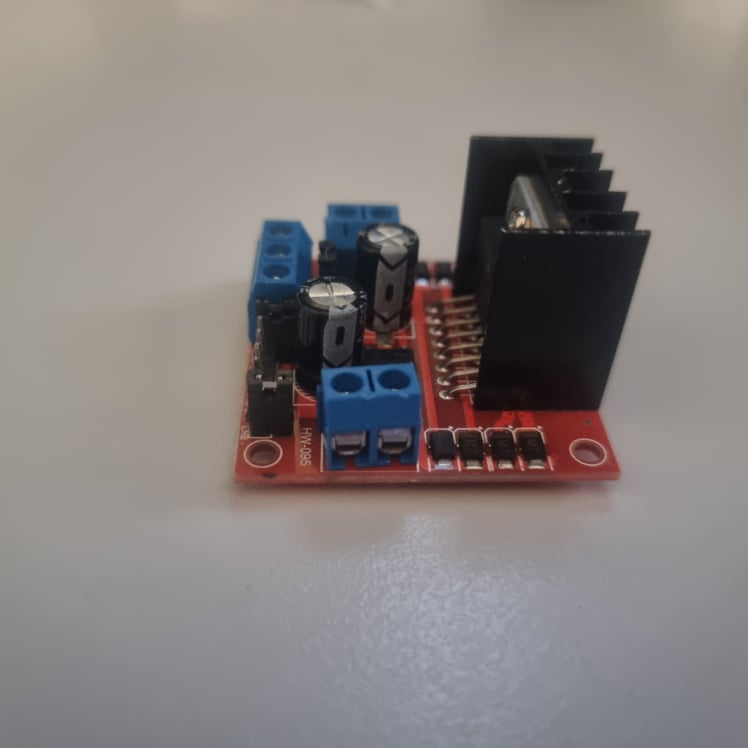MOTOR: (234, 133, 650, 484)
